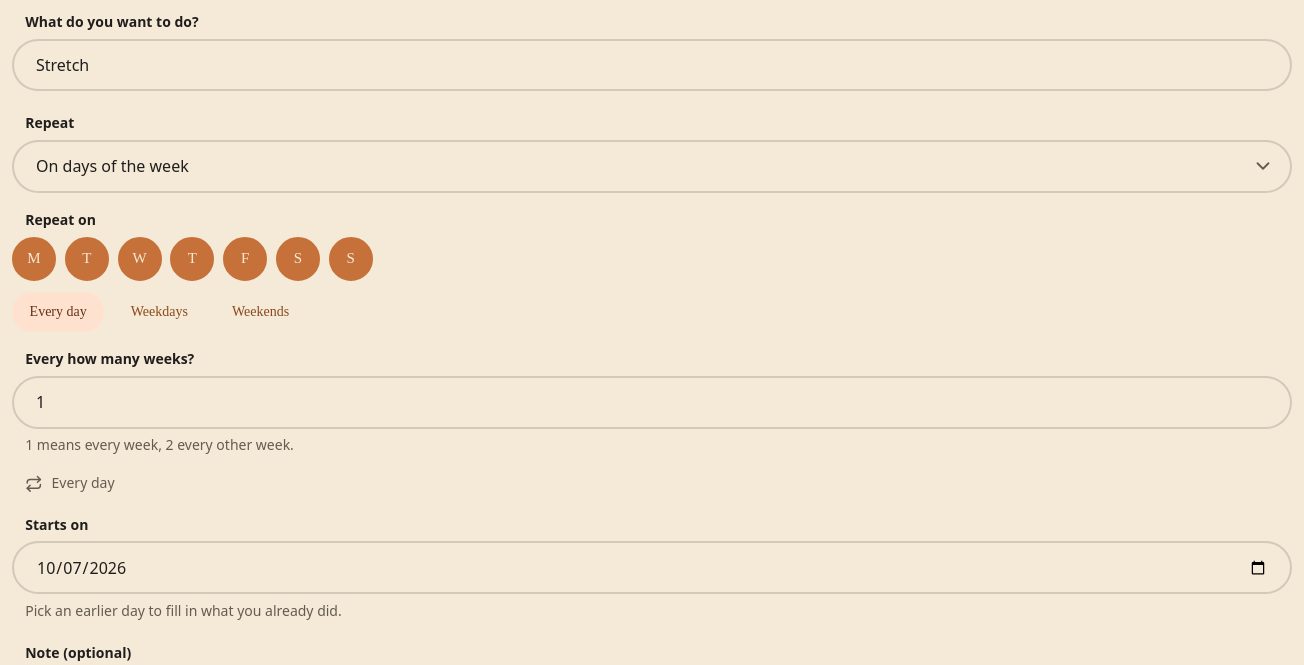
HabitForm: the repeat rule › says the rule in words as it is put together
Click the button "Weekdays" at [159, 312], box [113,292,206,332]
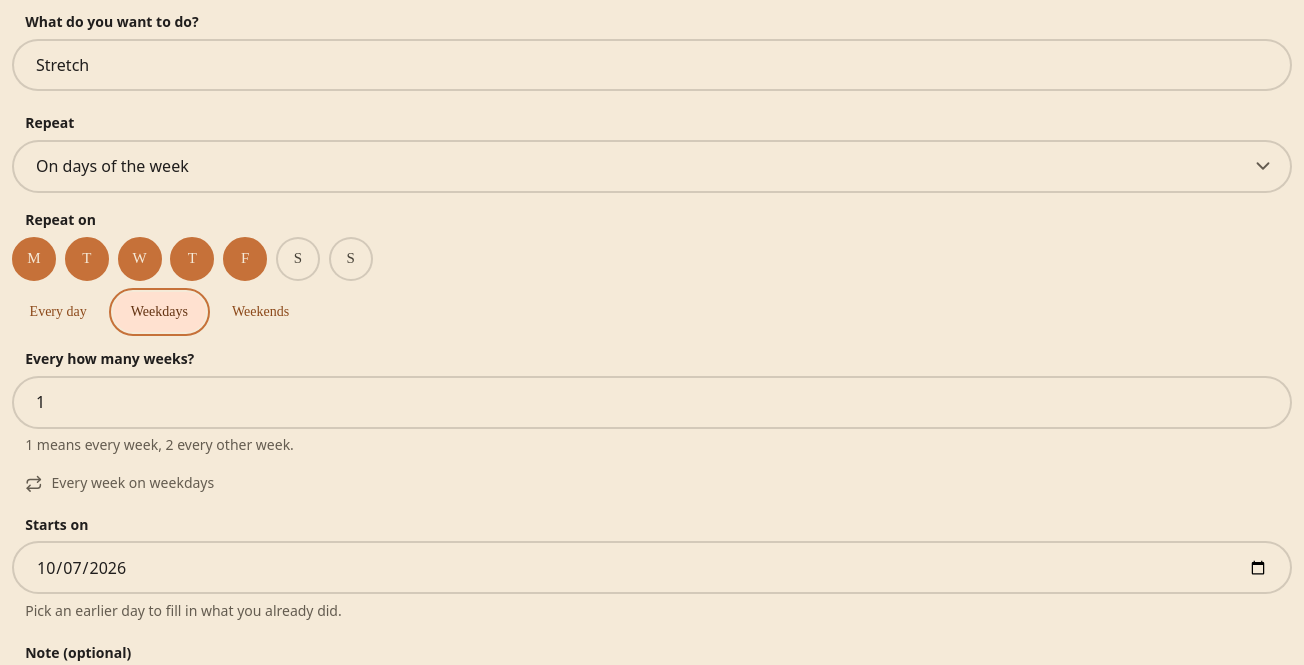
Now the text "Every week on weekdays" is shown, box [52,473,214,493]
Click the button named "Friday" at [245, 259], box [223,237,267,281]
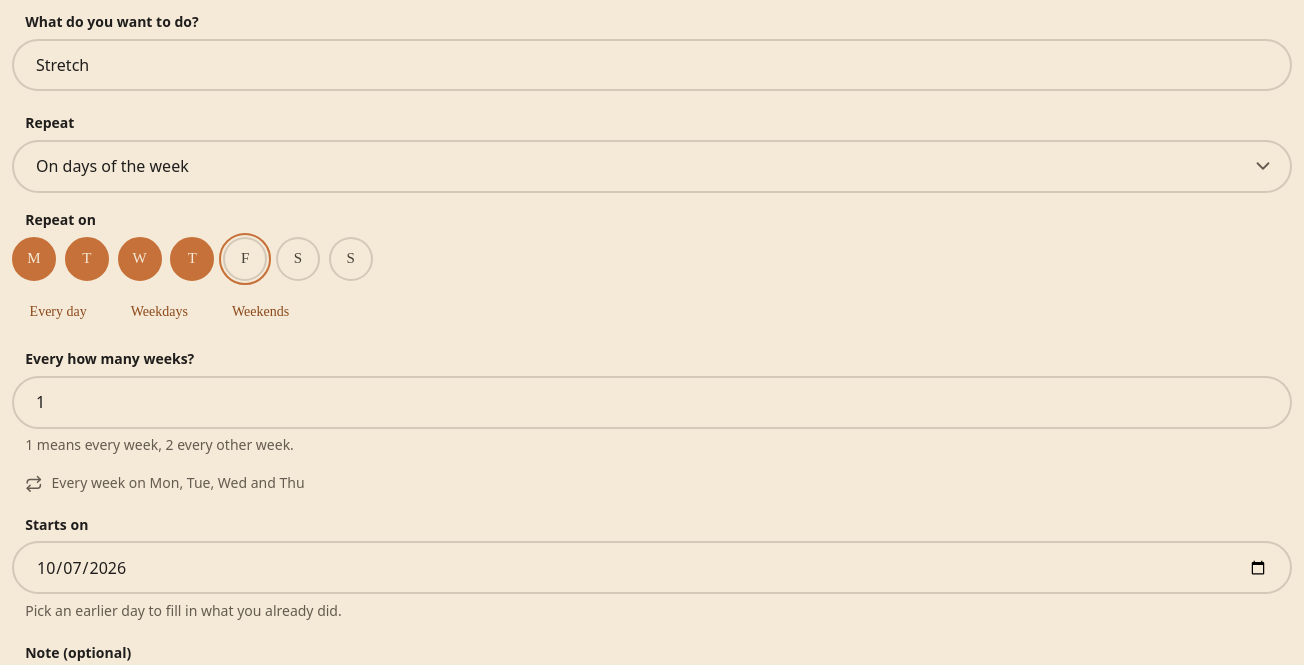
Now the text "Every week on Mon, Tue, Wed and Thu" is shown, box [52,473,305,493]
Replace the text in the number field labelled "Every how many weeks?" with "3" at [652, 402], box [12,376,1292,429]
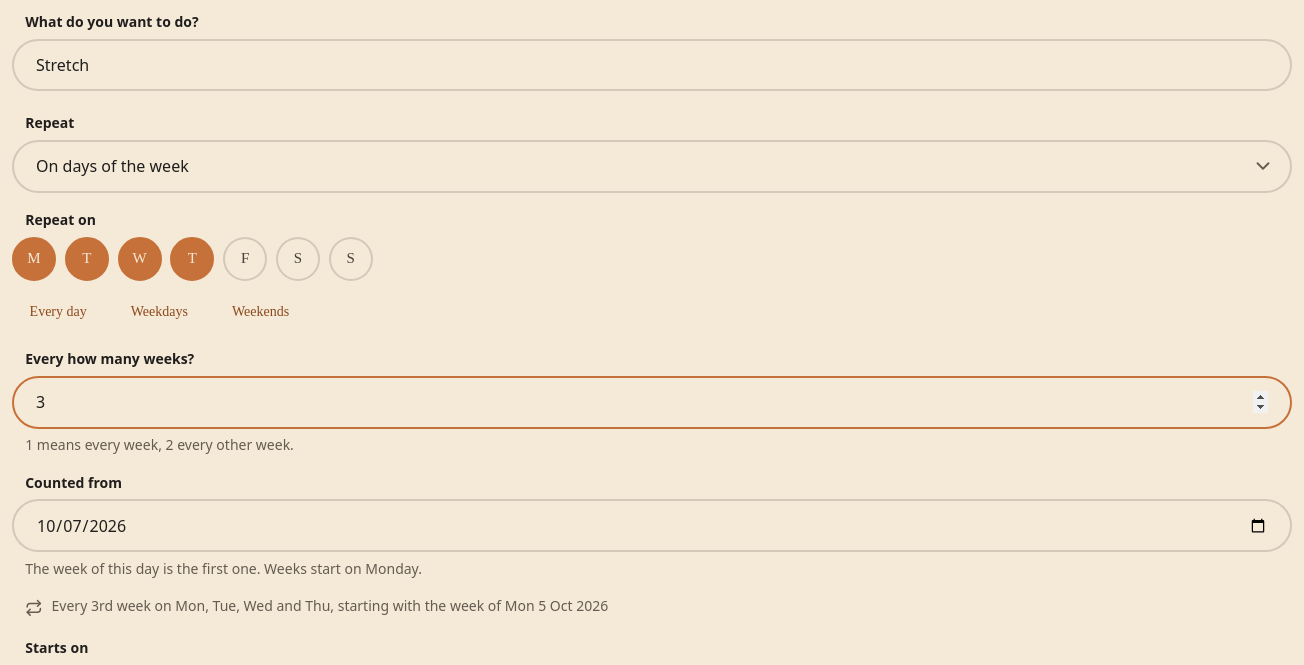
Now the text "Every 3rd week on Mon, Tue, Wed and Thu, starting with the week of Mon 5 Oct 2026" is shown, box [52,596,608,615]
